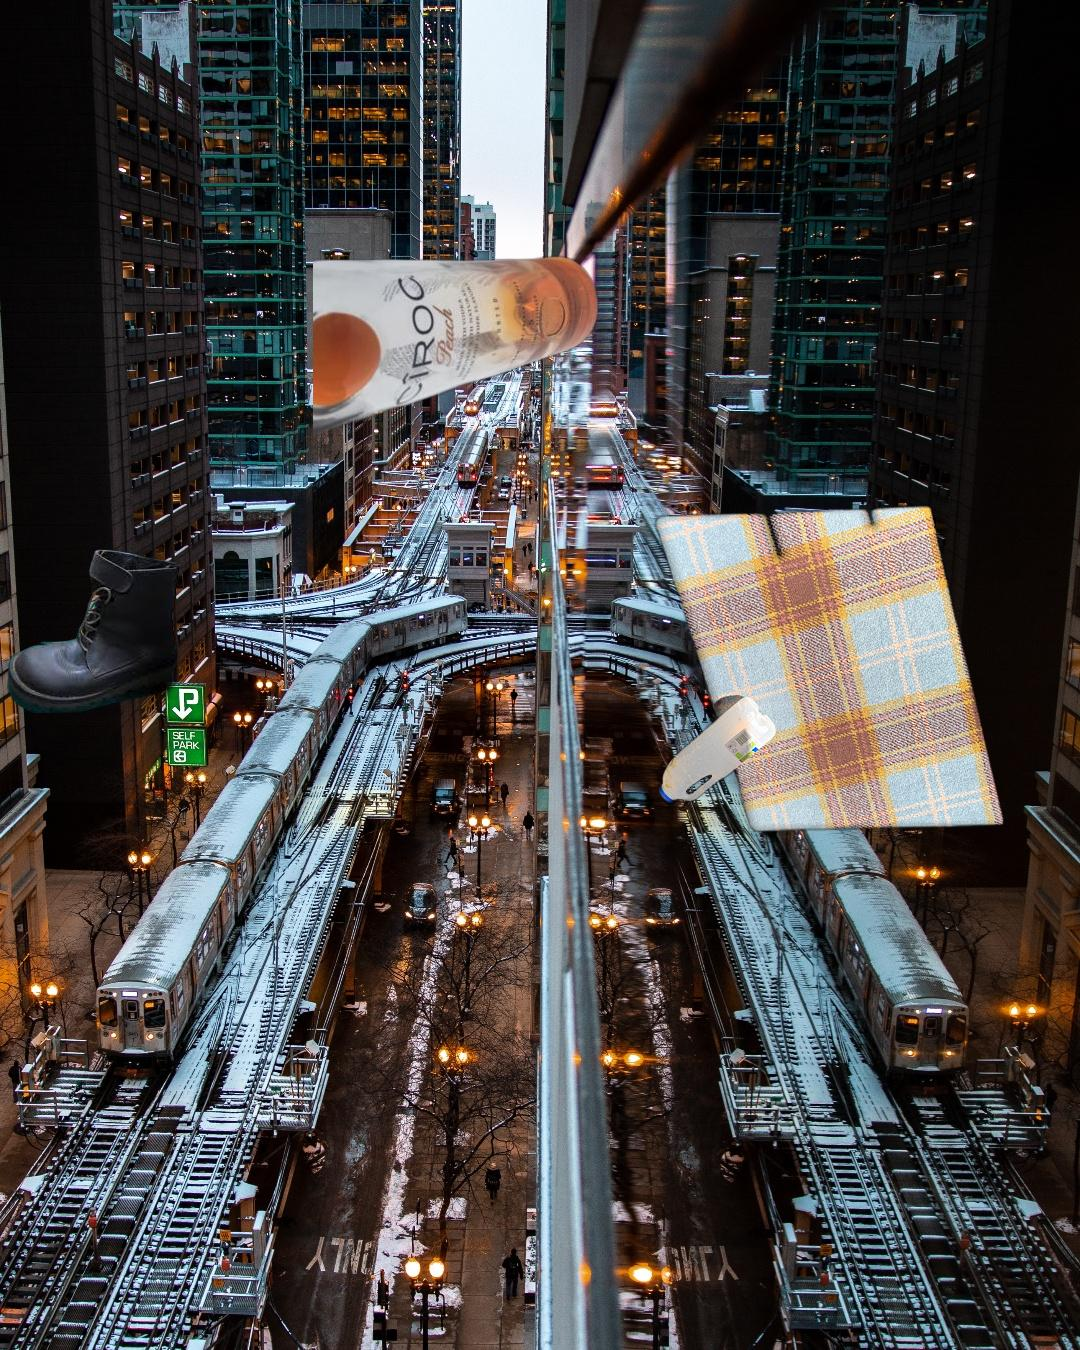glass: (313, 253, 603, 463)
plastic-bottles: (651, 500, 1009, 838)
shoes: (6, 546, 216, 713)
